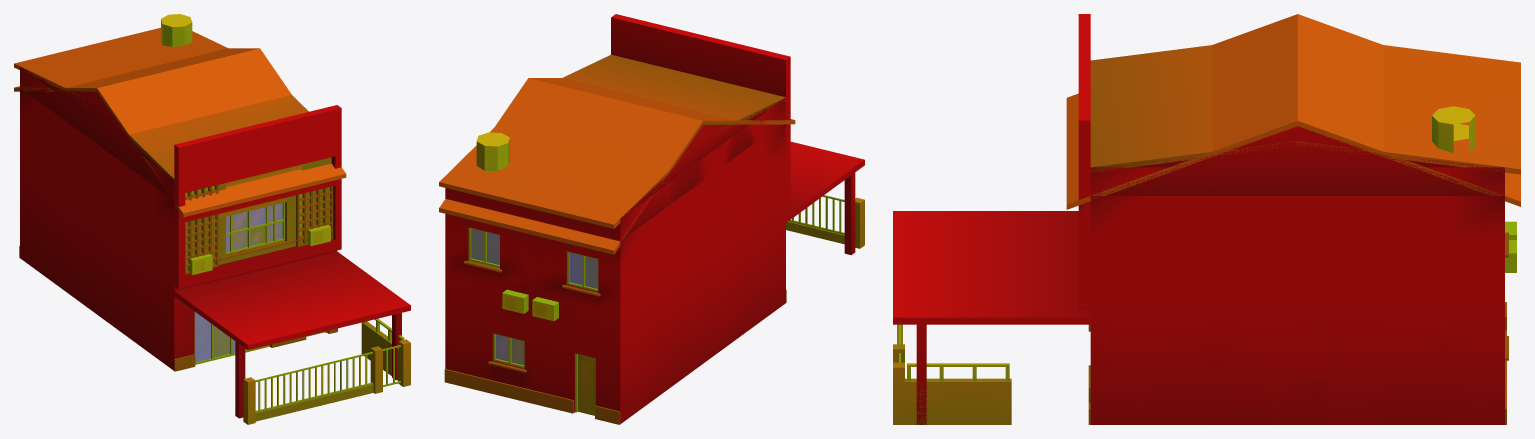
The model's file is link_intermediate.glb.
3 renders of one model, left to right at view 1: azimuth 30°, elevation 25°; view 2: azimuth 150°, elevation 25°; view 3: azimuth 270°, elevation 25°, orthographic. The views are drawn at different scales.
Parts seen in each view (by area): view 1: link_intermediate__gable__LOD0, link_intermediate__modern__LOD0; view 2: link_intermediate__gable__LOD0, link_intermediate__modern__LOD0; view 3: link_intermediate__gable__LOD0, link_intermediate__modern__LOD0.
Part boxes in pixels (<box>): link_intermediate__gable__LOD0: <box>14,32,410,424</box>; link_intermediate__modern__LOD0: <box>14,14,341,370</box>; link_intermediate__gable__LOD0: <box>439,78,864,424</box>; link_intermediate__modern__LOD0: <box>439,14,790,422</box>; link_intermediate__gable__LOD0: <box>893,14,1520,424</box>; link_intermediate__modern__LOD0: <box>1078,14,1520,424</box>.
Size of what is drawn, in the model's own units: 6.4 by 8.5 by 15.9.
